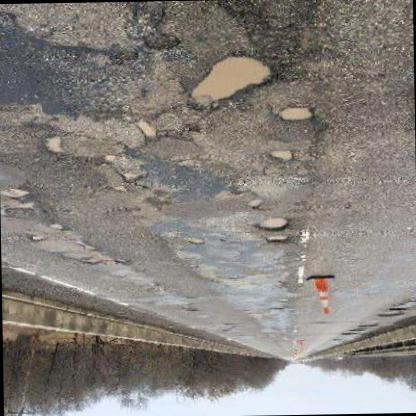pothole: (188, 54, 277, 112), (134, 1, 183, 52), (67, 250, 128, 267), (277, 106, 316, 124), (256, 215, 292, 232), (134, 118, 158, 140), (44, 134, 66, 154), (268, 149, 296, 163), (121, 172, 148, 184), (1, 190, 33, 200), (266, 235, 290, 247), (28, 232, 46, 244), (186, 237, 207, 247), (11, 202, 36, 210), (103, 154, 120, 165), (49, 222, 67, 232)
